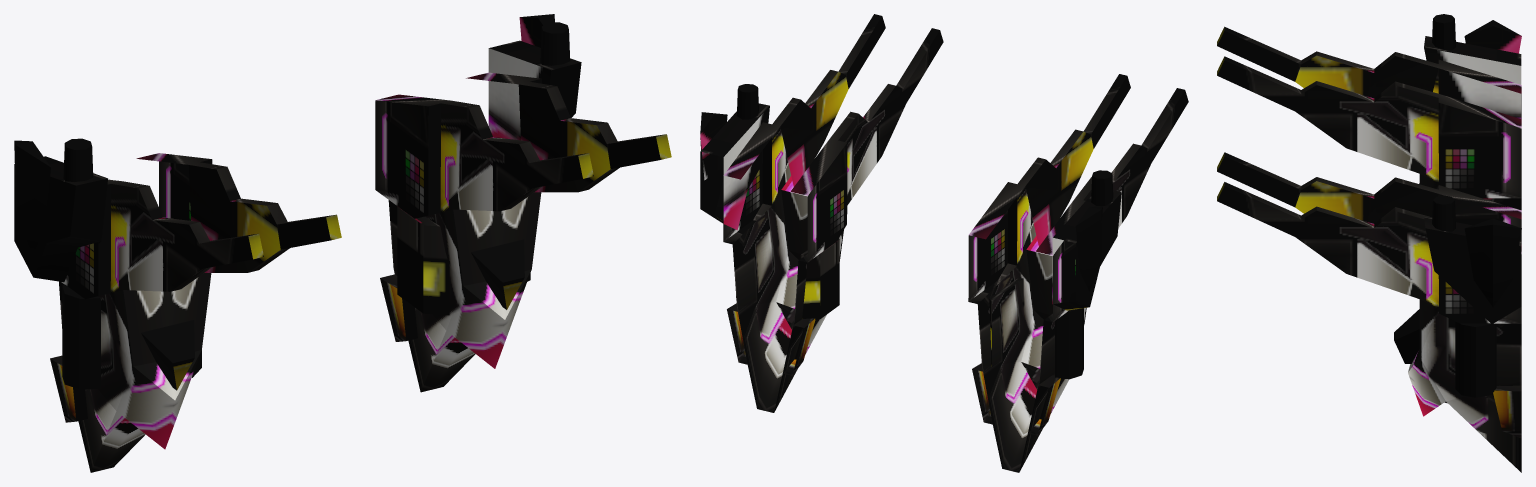
Rendered from datan_common_ss0_arm90_skokr_dd8fb43a.obj.
3 renders of one model, left to right at view 1: azimuth 30°, elevation 25°; view 2: azimuth 150°, elevation 25°; view 3: azimuth 270°, elevation 25°, orthographic. The views are drawn at different scales.
Parts seen in each view (by area): view 1: datan_common_ss0_arm90_skokr_dd8fb43a; view 2: datan_common_ss0_arm90_skokr_dd8fb43a; view 3: datan_common_ss0_arm90_skokr_dd8fb43a.
Boxes of the visible parts, x1=… form: datan_common_ss0_arm90_skokr_dd8fb43a: x1=14, y1=14, x2=671, y2=472; datan_common_ss0_arm90_skokr_dd8fb43a: x1=700, y1=14, x2=1188, y2=472; datan_common_ss0_arm90_skokr_dd8fb43a: x1=1217, y1=14, x2=1521, y2=472.
Size of the model in its own units: 1.29 by 0.8797 by 0.8116.
Materials: 1 (1 with a texture image).
